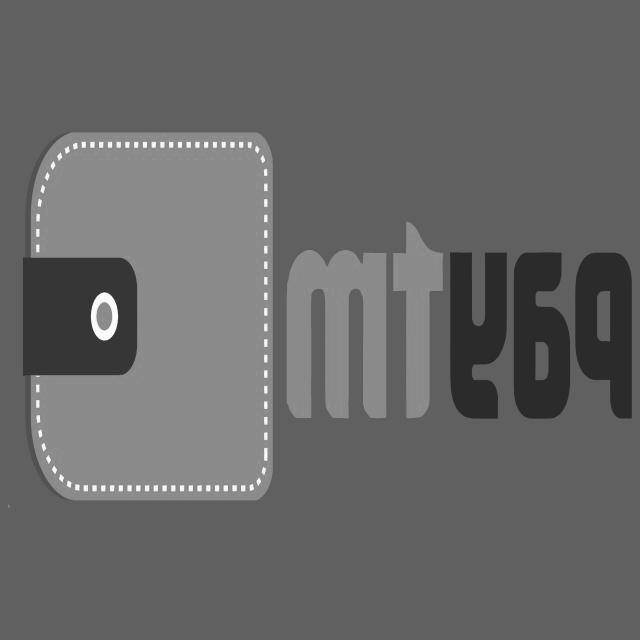fully_visible: (281, 208, 635, 434)
